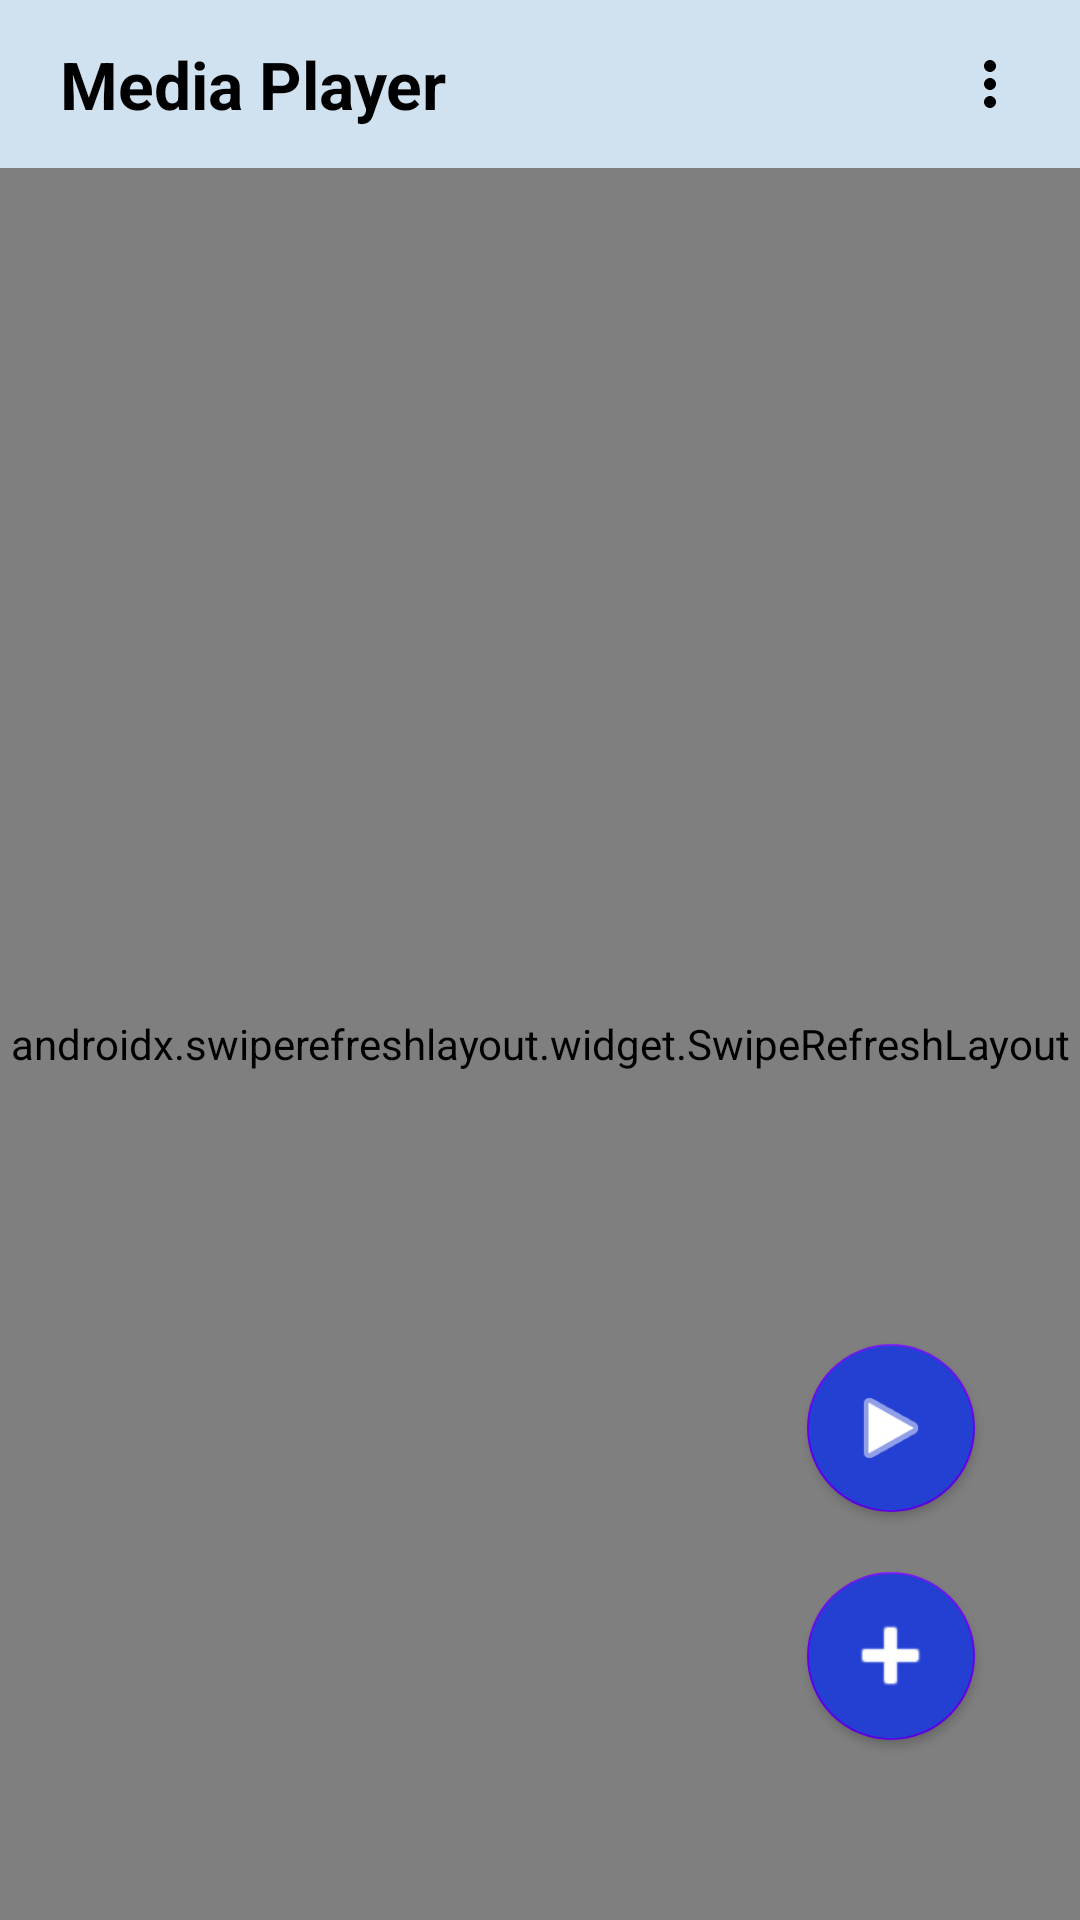

Icons on this 1080px x 1920px Android screen, each with the point to tap as (x,y):
add: (891,1656)
more vert: (990,84)
play: (891,1428)
